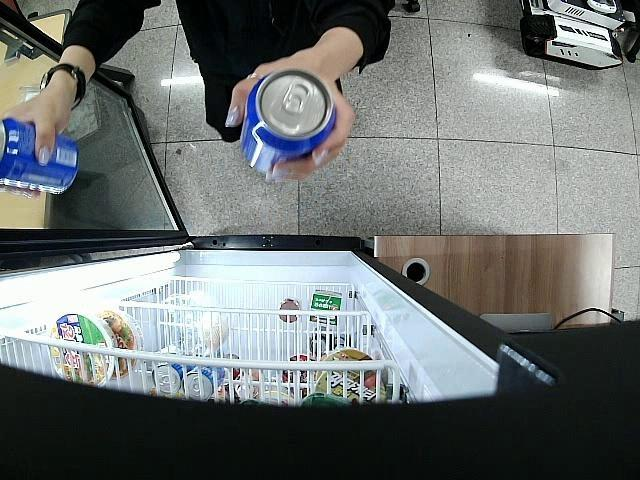13_pocariSweat: (242, 70, 336, 174), (0, 117, 81, 195)
